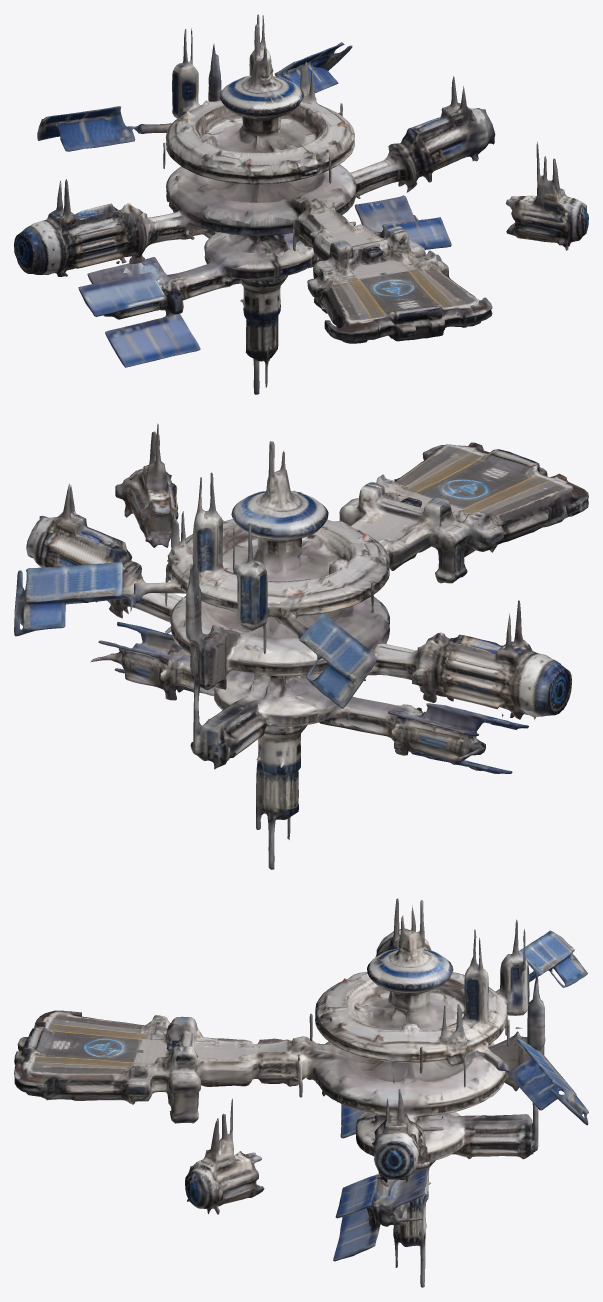
Rendered from estacion_aurora.glb.
3 renders of one model, top to bottom at view 1: azimuth 30°, elevation 25°; view 2: azimuth 150°, elevation 25°; view 3: azimuth 270°, elevation 25°, orthographic. The views are drawn at different scales.
Parts seen in each view (by area): view 1: input; view 2: input; view 3: input.
Part boxes in pixels (x1,y1,x2,y2): input: [14, 14, 588, 394]; input: [14, 423, 588, 869]; input: [14, 898, 588, 1287].
Bounding box in the file's own units: 0.9983 × 0.743 × 1.
1 material, 1 textured.
